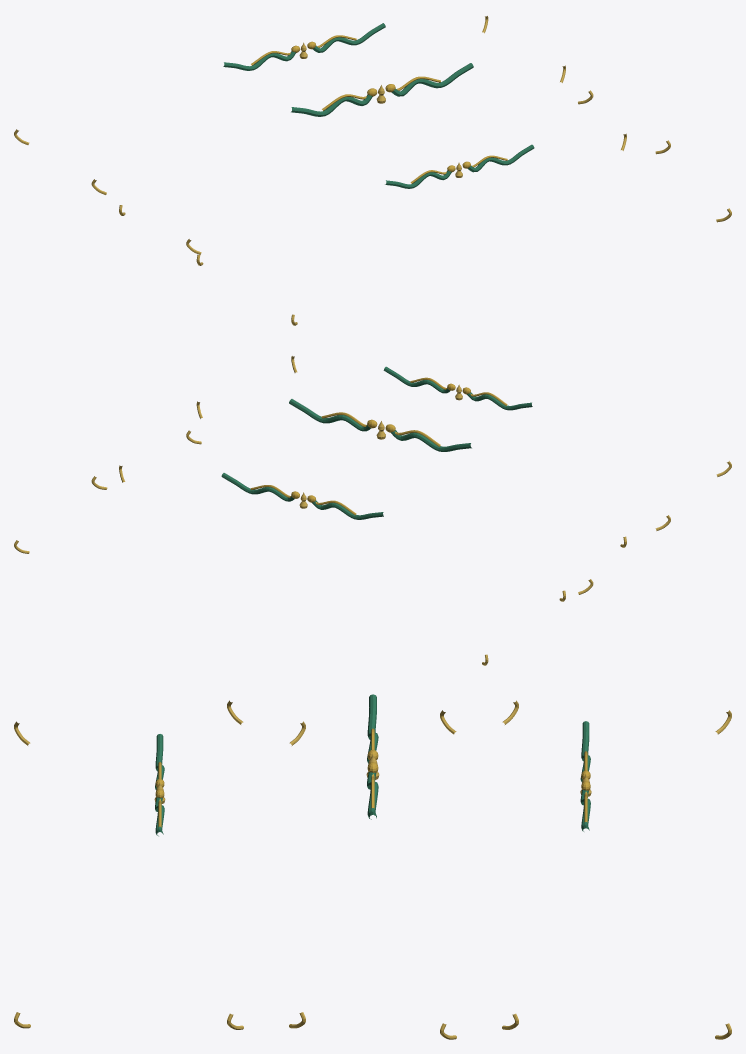
Rendered from dongkhanh-hero.glb.
The picture shows the model from 3 angles, top to bottom: view 1: azimuth 30°, elevation 25°; view 2: azimuth 150°, elevation 25°; view 3: azimuth 270°, elevation 25°; orthographic projection. The views are drawn at different scales.
Parts seen in each view (by area): view 1: dongkhanh_hero_ornaments; view 2: dongkhanh_hero_ornaments; view 3: dongkhanh_hero_ornaments.
Part boxes in pixels (bbox=[...]): dongkhanh_hero_ornaments: bbox=[14, 16, 731, 325]; dongkhanh_hero_ornaments: bbox=[14, 356, 731, 665]; dongkhanh_hero_ornaments: bbox=[14, 694, 731, 1039].
Size of the model in its own units: 28.17 by 5.5 by 26.97.
